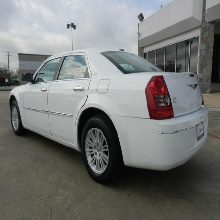no damage: (8, 49, 210, 186)
